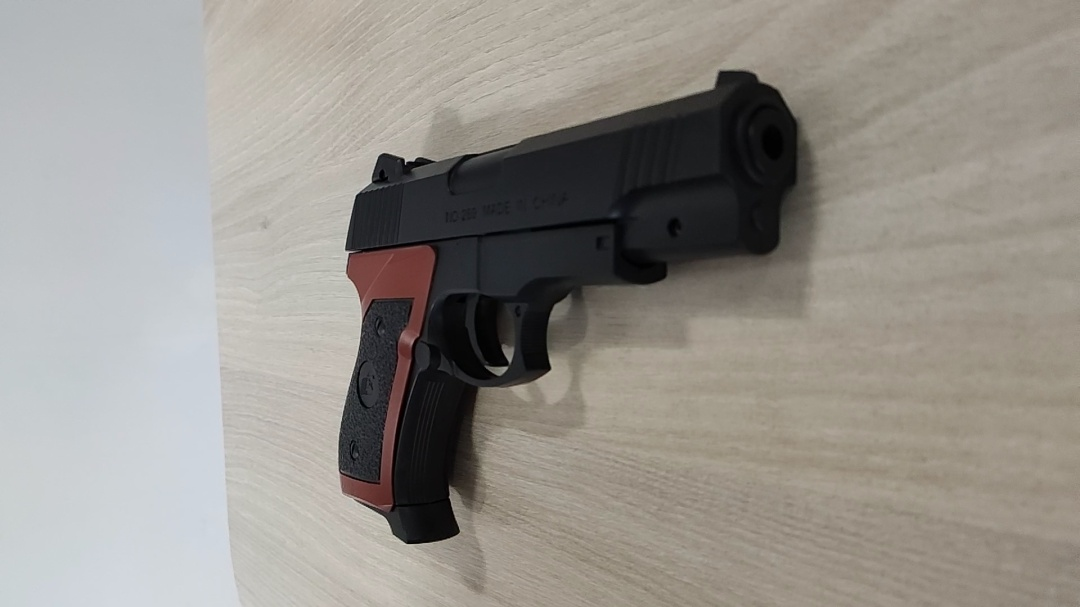gun: (509, 493, 556, 550)
